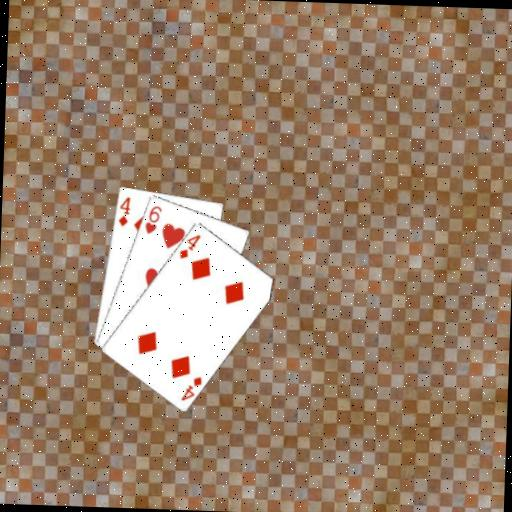4D: (176, 230, 202, 260), (177, 373, 203, 403), (114, 193, 132, 228)
6H: (141, 202, 163, 235)
